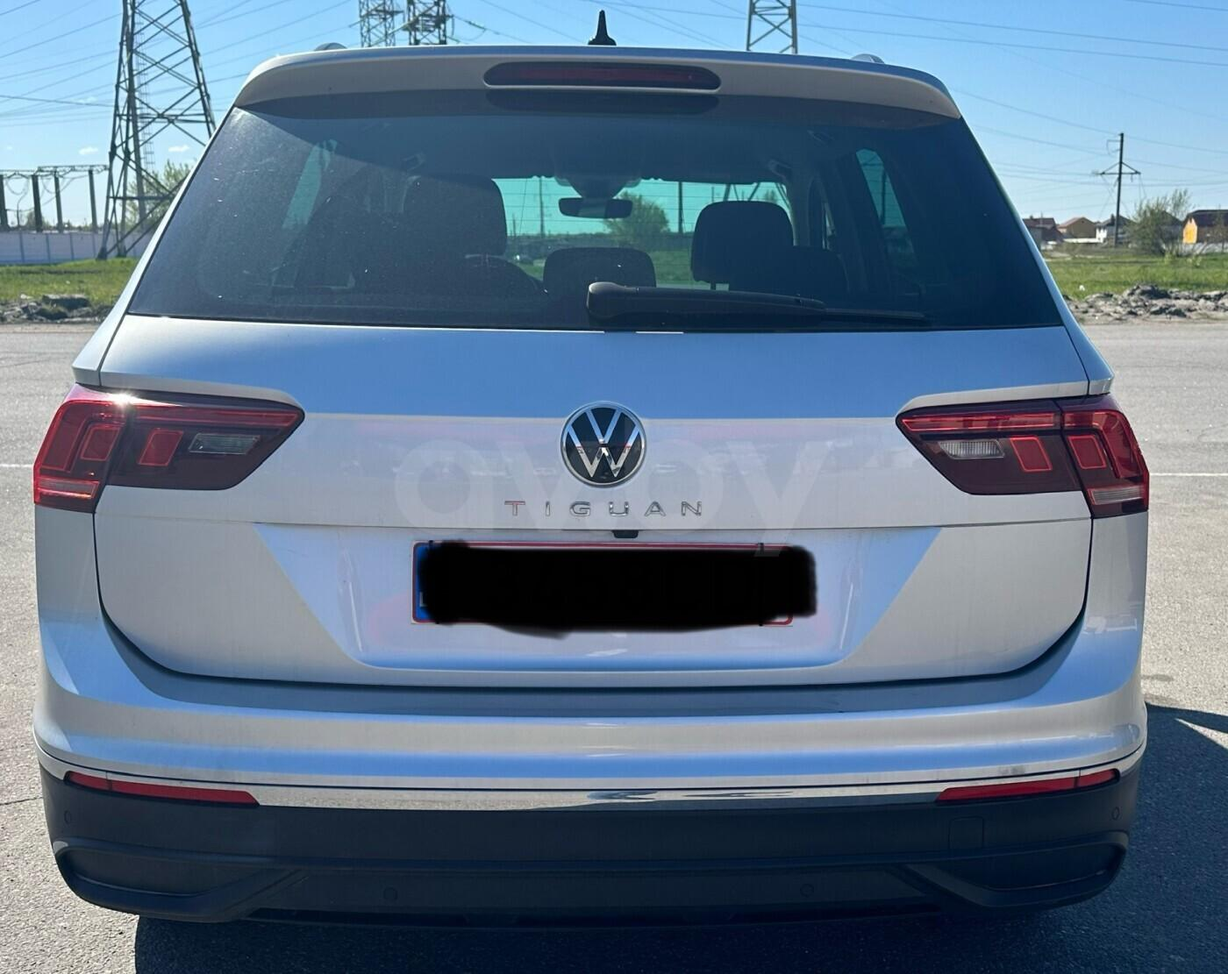Tiguan_2020-2024: (20, 41, 1154, 939)
